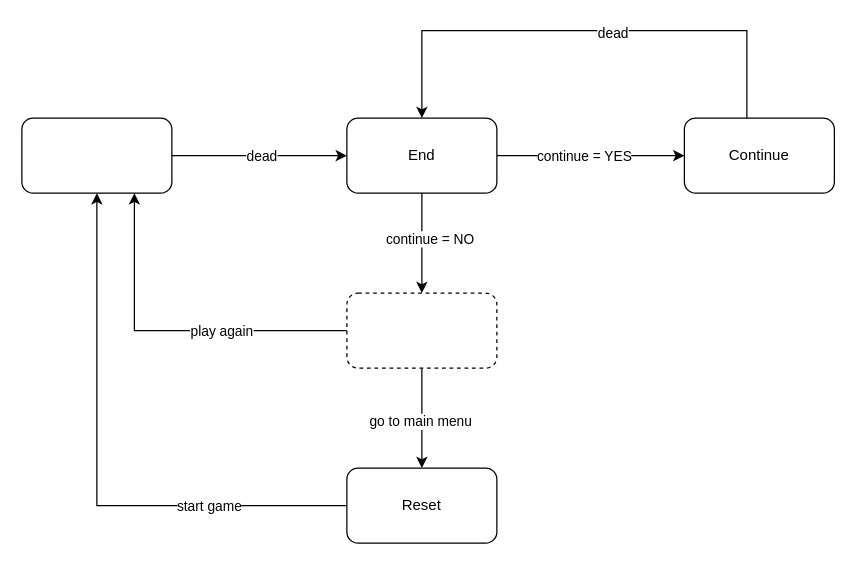
This 856x565 diagram has some shape labels left out. Here are the shapes that lost their labels. From the top down, the centre of each, then its label:
At point (96, 155): "Start".
At point (421, 330): "Game Over".
